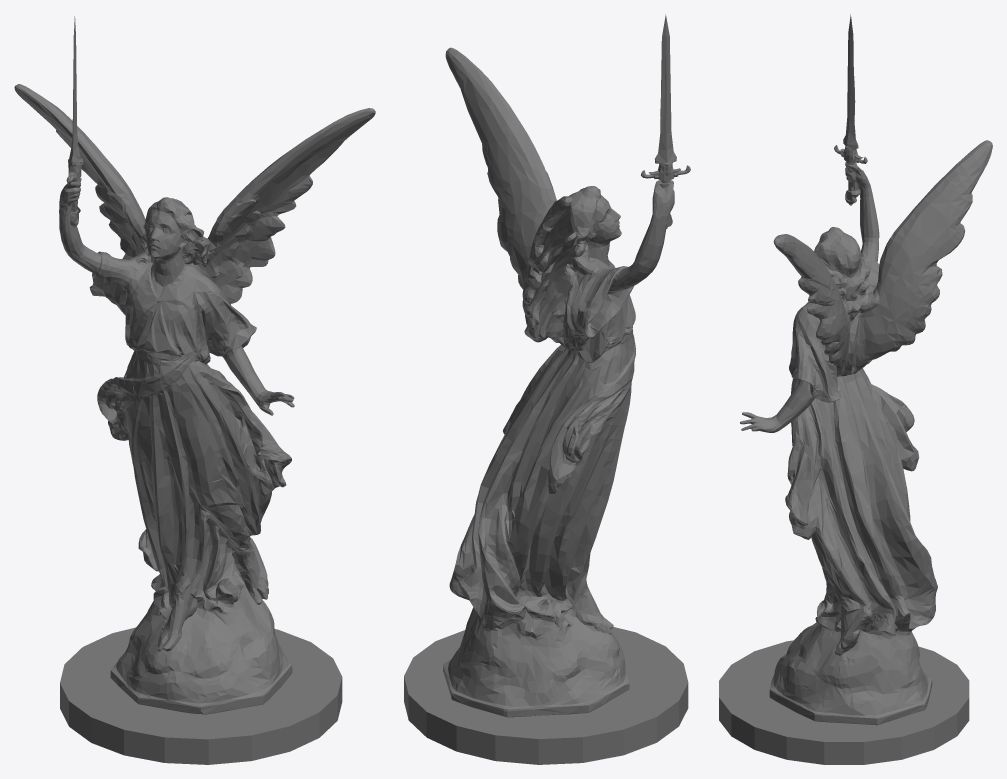
File: angel.obj
3 renders of one model, left to right at view 1: azimuth 30°, elevation 25°; view 2: azimuth 150°, elevation 25°; view 3: azimuth 270°, elevation 25°, orthographic. The views are drawn at different scales.
Visible parts, largest first — view 1: winged_victory_with_big_sword; view 2: winged_victory_with_big_sword; view 3: winged_victory_with_big_sword.
Part boxes in pixels (<box>): winged_victory_with_big_sword: <box>14,16,375,764</box>; winged_victory_with_big_sword: <box>404,14,690,764</box>; winged_victory_with_big_sword: <box>719,14,992,764</box>.
Bounding box in the file's own units: 1.74 × 4.34 × 1.67.
